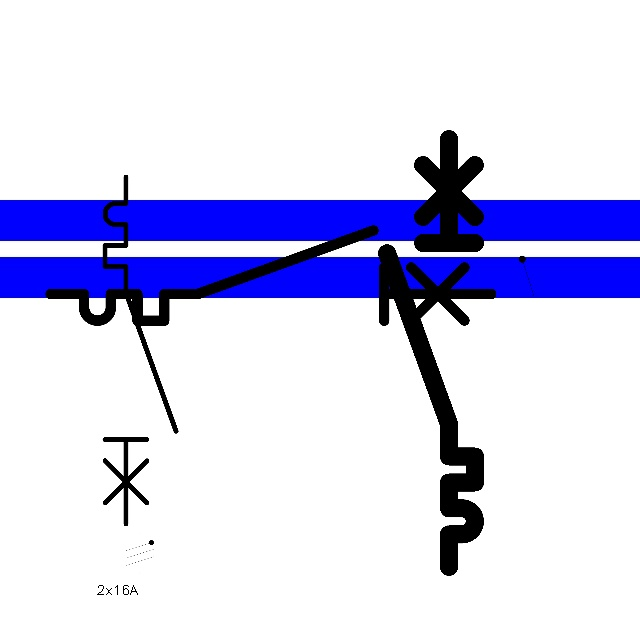interruptor_termomagnetico: (39, 219, 502, 332), (376, 128, 486, 578), (96, 168, 185, 533)
